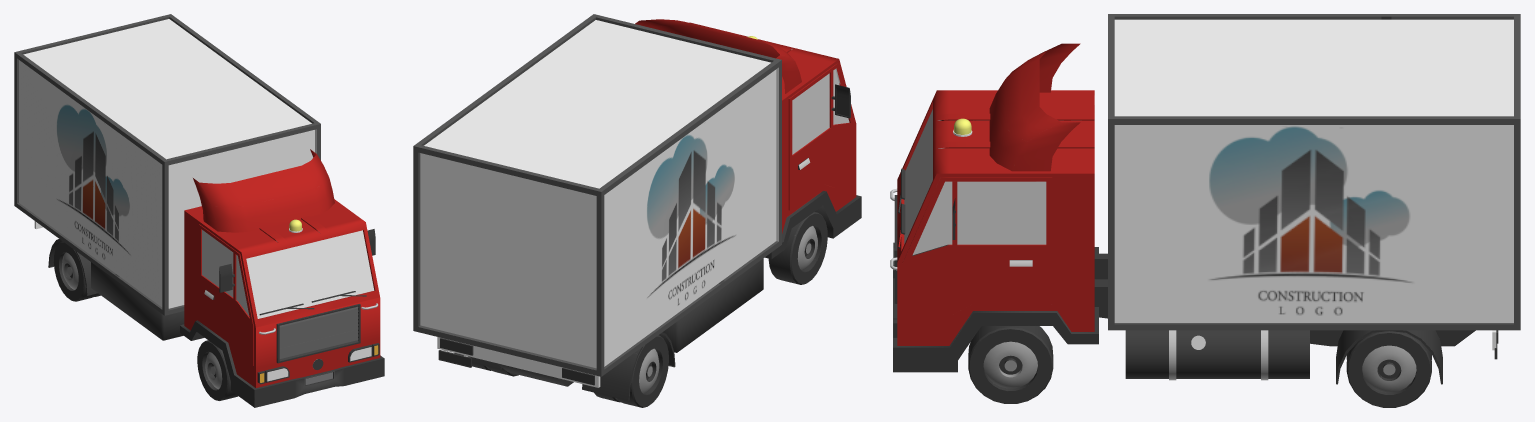
File: Truck_construction.fbx
3 renders of one model, left to right at view 1: azimuth 30°, elevation 25°; view 2: azimuth 150°, elevation 25°; view 3: azimuth 270°, elevation 25°, orthographic. The views are drawn at different scales.
Visible parts, largest first — view 1: Back_constr, Truckl, Window.001; view 2: Back_constr, Truckl, Window.001; view 3: Back_constr, Truckl, Window.001.
Boxes of the visible parts, x1,y1,x2,y2 form: Back_constr: [14, 14, 320, 315]; Truckl: [34, 149, 384, 407]; Window.001: [202, 230, 374, 318]; Back_constr: [413, 14, 781, 376]; Truckl: [437, 19, 861, 407]; Window.001: [792, 69, 849, 154]; Back_constr: [1108, 14, 1520, 330]; Truckl: [890, 43, 1498, 407]; Window.001: [904, 109, 1046, 254].
Size of the model in its own units: 201 by 261 by 508.
